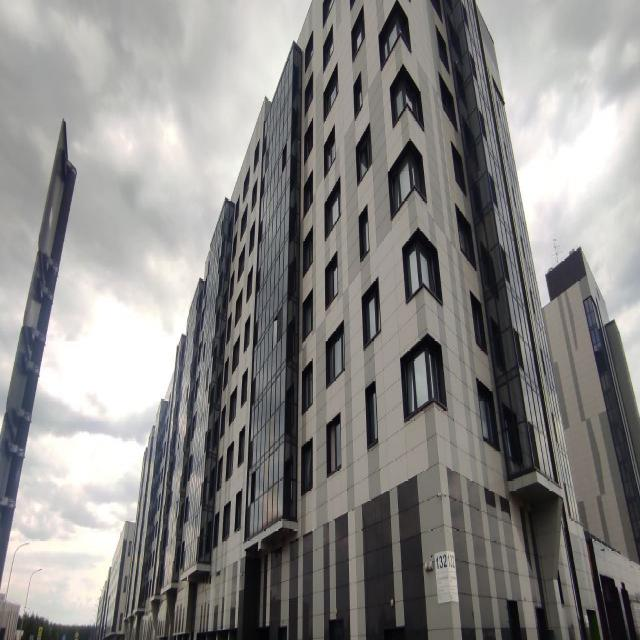Building: (125, 0, 601, 640)
